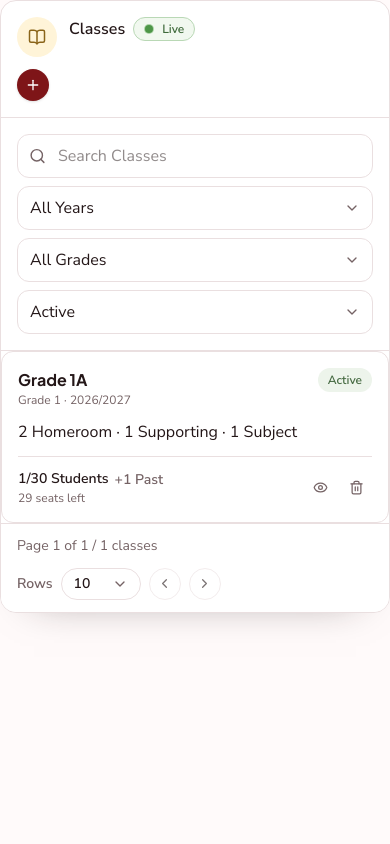
Scenario: ClassesPanel › shows the teachers of a class in one line that opens their names by role
Expected: the text "Beta Teacher" is not shown
Click the button "2 Homeroom · 1 Supporting · 1 Subject": (158, 432) [18,420,297,444]
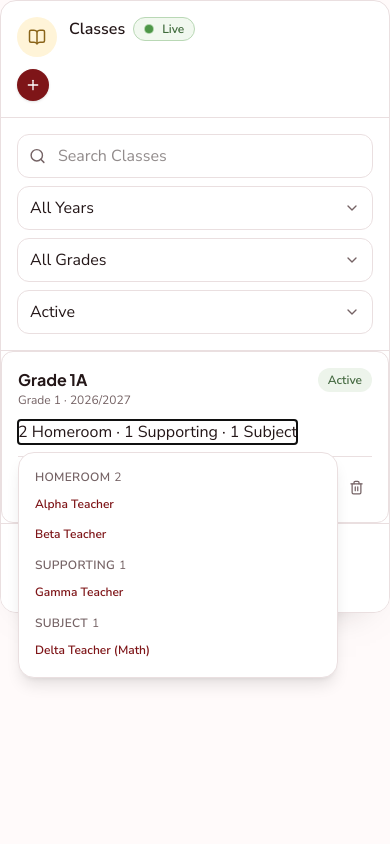
Expected: the text "Beta Teacher" is shown, [35,526,106,542]
Expected: the text "Delta Teacher (Math)" is shown, [35,642,150,658]
Expected: the text "Homeroom" is shown, [35,469,110,485]
